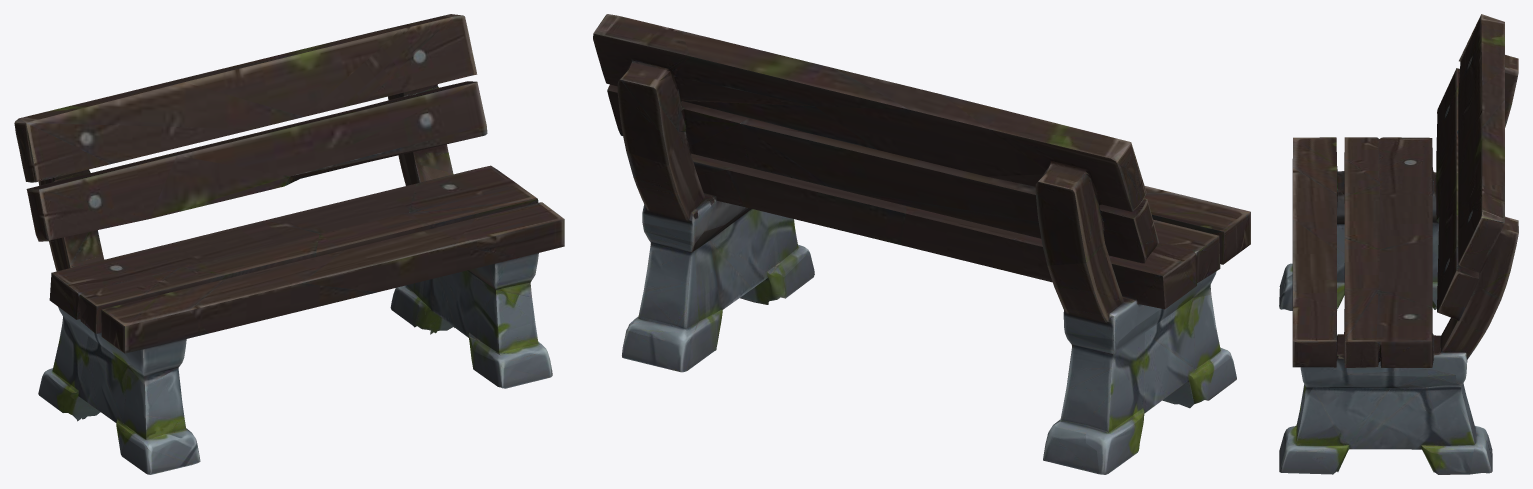
File: bench.glb
The picture shows the model from 3 angles, left to right: view 1: azimuth 30°, elevation 25°; view 2: azimuth 150°, elevation 25°; view 3: azimuth 270°, elevation 25°; orthographic projection. The views are drawn at different scales.
Visible parts, largest first — view 1: bench; view 2: bench; view 3: bench.
Boxes of the visible parts, x1,y1,x2,y2 form: bench: [14, 14, 564, 474]; bench: [593, 14, 1250, 474]; bench: [1279, 14, 1518, 474].
Size of the model in its own units: 1.44 by 0.9 by 0.7127.
Materials: 1 (1 with a texture image).
